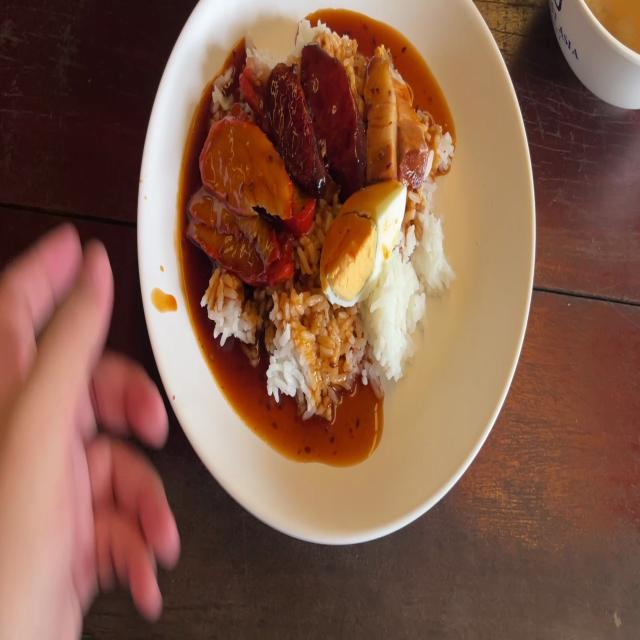01boiled_egg: (326, 179, 409, 299)
01chainese_sausage: (275, 40, 352, 182)
01crispy_pork: (360, 42, 425, 186)
01red_pork: (192, 121, 304, 274)
01red_pork_and_crispy_pork: (192, 6, 456, 406)
01rice: (269, 291, 352, 397), (368, 248, 420, 382), (206, 273, 254, 346), (415, 193, 446, 291)
